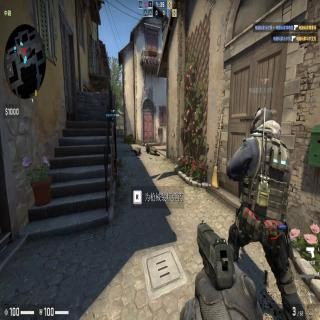CT-Head: (250, 105, 273, 138)
